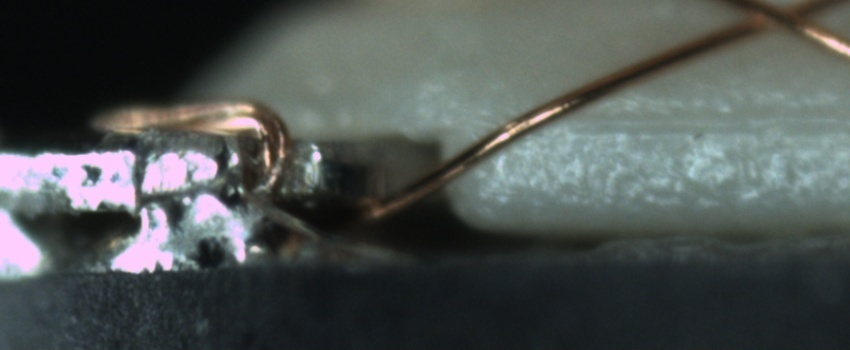CL: (722, 1, 835, 42)
DL: (585, 93, 849, 158)
TE: (85, 93, 299, 189)
